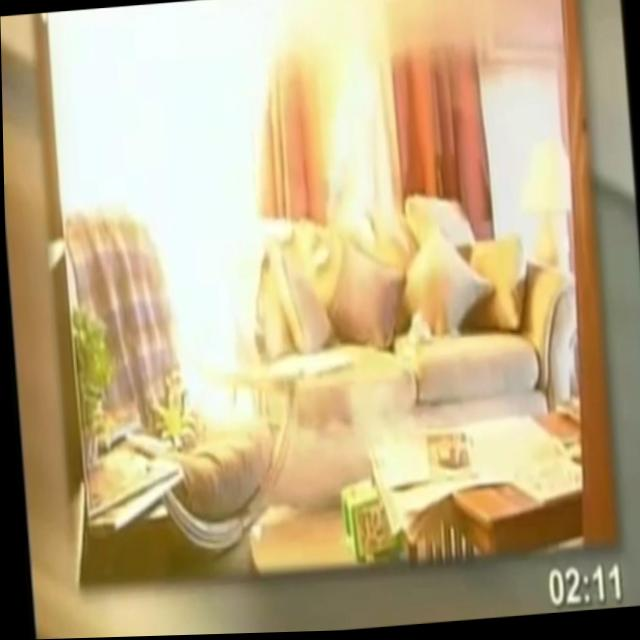fire: (121, 4, 282, 435)
